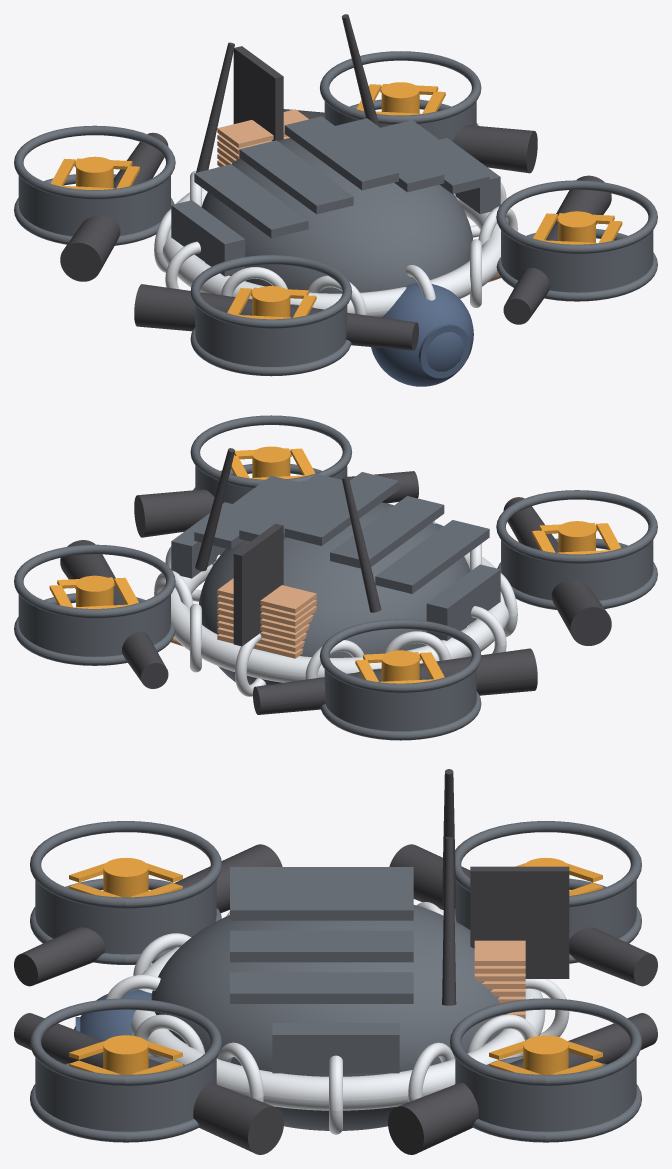
Rendered from model_highpoly.glb.
3 views of the same model, one above another, from view 1: azimuth 30°, elevation 25°; view 2: azimuth 150°, elevation 25°; view 3: azimuth 270°, elevation 25° (orthographic). The views are drawn at different scales.
Parts seen in each view (by area): view 1: EngineNacelles, ArmorPlates, Chassis, PropulsionArms, ContainmentRing, RotorBlades, SensorTurret, StabilizerFins, ConduitsAndHeatsink; view 2: EngineNacelles, ArmorPlates, PropulsionArms, Chassis, ContainmentRing, RotorBlades, StabilizerFins, ConduitsAndHeatsink; view 3: EngineNacelles, ArmorPlates, Chassis, PropulsionArms, ContainmentRing, StabilizerFins, RotorBlades, ConduitsAndHeatsink, SensorTurret.
Boxes of the visible parts, bbox=[...] form: EngineNacelles: bbox=[14, 51, 657, 376]; ArmorPlates: bbox=[171, 116, 500, 276]; Chassis: bbox=[201, 138, 472, 293]; PropulsionArms: bbox=[60, 109, 611, 350]; ContainmentRing: bbox=[154, 171, 517, 317]; RotorBlades: bbox=[50, 82, 622, 319]; SensorTurret: bbox=[371, 282, 473, 386]; StabilizerFins: bbox=[196, 14, 379, 172]; ConduitsAndHeatsink: bbox=[217, 109, 501, 282]; EngineNacelles: bbox=[14, 415, 657, 740]; ArmorPlates: bbox=[171, 472, 500, 640]; PropulsionArms: bbox=[60, 471, 611, 714]; Chassis: bbox=[199, 502, 470, 684]; ContainmentRing: bbox=[154, 521, 517, 696]; RotorBlades: bbox=[49, 446, 620, 683]; StabilizerFins: bbox=[195, 448, 381, 646]; ConduitsAndHeatsink: bbox=[171, 578, 316, 658]; EngineNacelles: bbox=[30, 821, 641, 1142]; ArmorPlates: bbox=[230, 867, 413, 1073]; Chassis: bbox=[151, 905, 507, 1130]; PropulsionArms: bbox=[14, 844, 657, 1154]; ContainmentRing: bbox=[105, 902, 569, 1134]; StabilizerFins: bbox=[442, 769, 569, 1005]; RotorBlades: bbox=[69, 857, 602, 1074]; ConduitsAndHeatsink: bbox=[474, 940, 525, 1018]; SensorTurret: bbox=[74, 989, 151, 1040].
Bounding box in the file's own units: 2.32 × 1.2 × 2.28.
